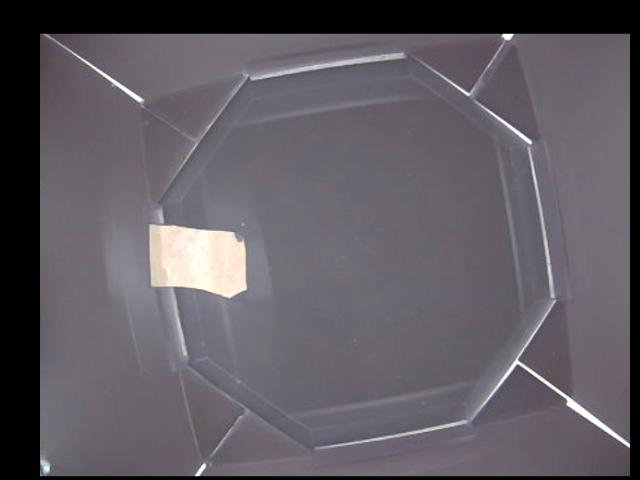China: (146, 223, 246, 300)
